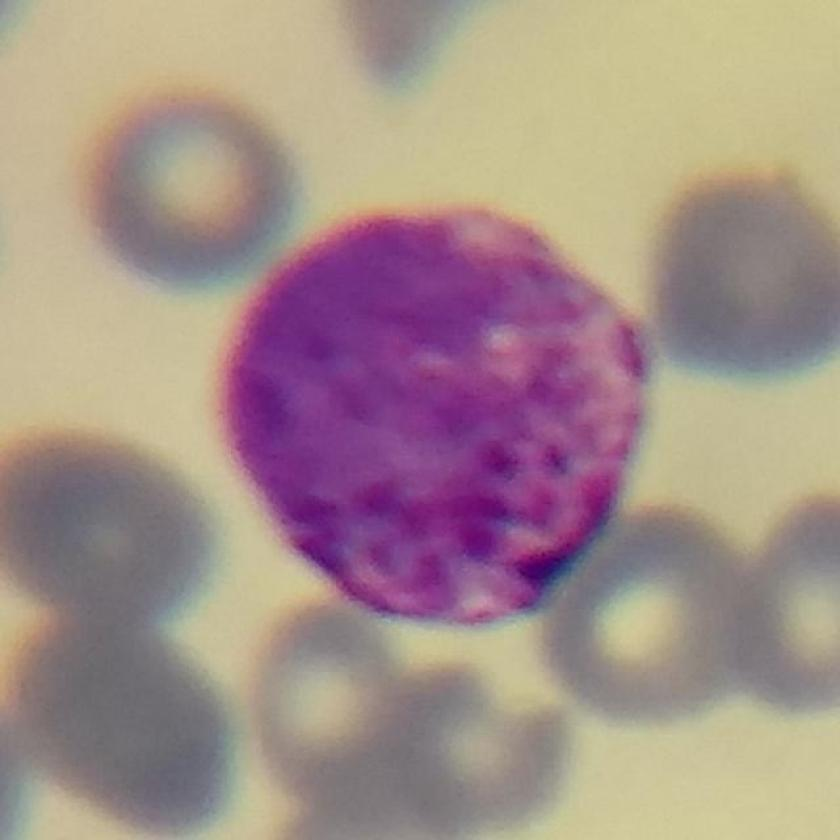basophil: (211, 198, 659, 632)
